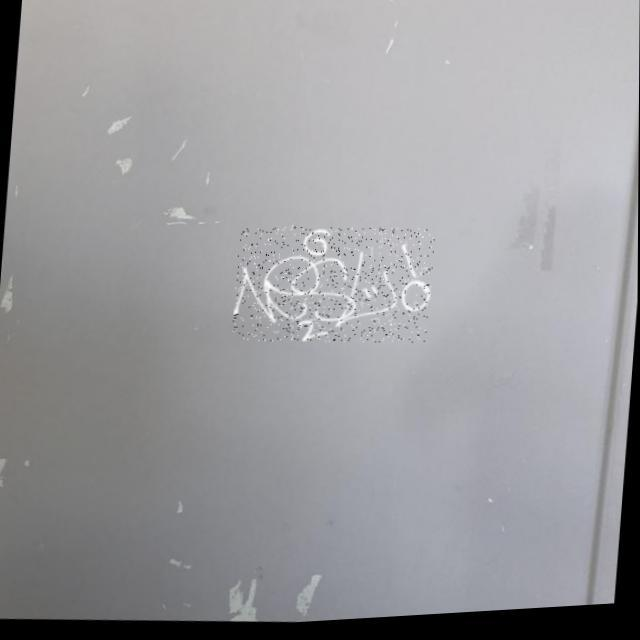-: (231, 220, 435, 356)
